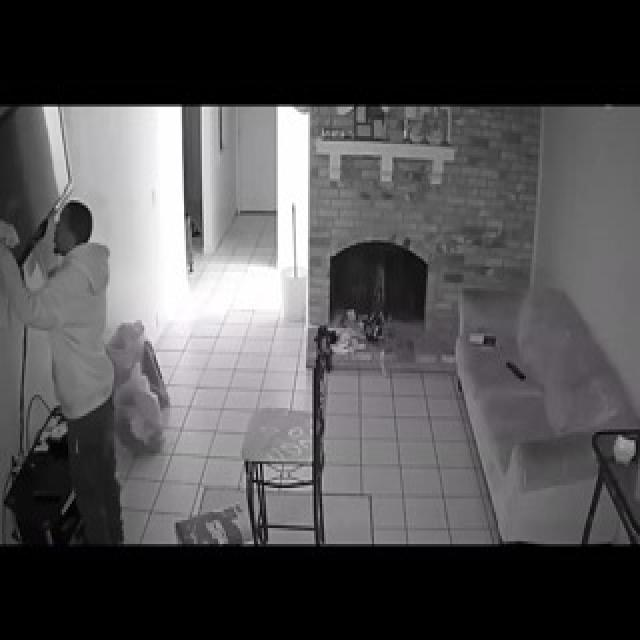thief: (36, 183, 115, 390)
